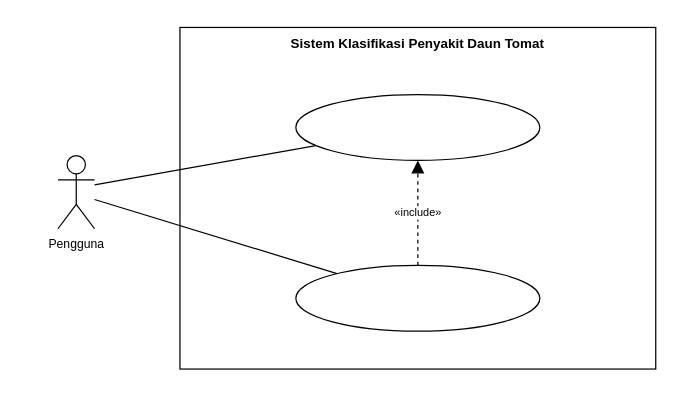
This 683x395 diagram has some shape labels left out. Each missing label, with the box of its shape:
Mengunggah dan Meninjau Citra: (295, 93, 540, 160)
Menjalankan Perbandingan Tiga Model: (295, 264, 540, 331)
